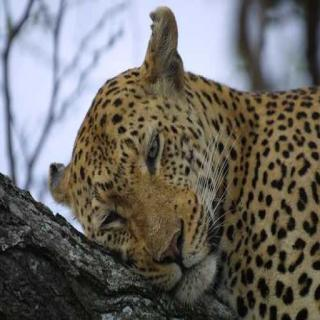Leopard: (38, 4, 320, 319)
